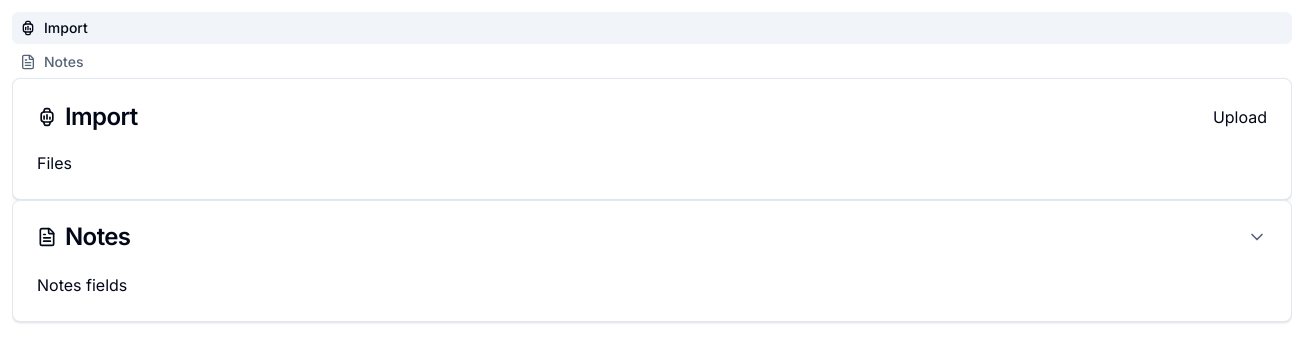
Scenario: the dive form's section index › opens a collapsed section on a jump, scrolls to it and puts focus on it
The width and height of the screenshot is (1304, 340).
Click the 2nd button "Notes". click: (98, 236)
box: x1=37 y1=225 x2=1267 y2=249
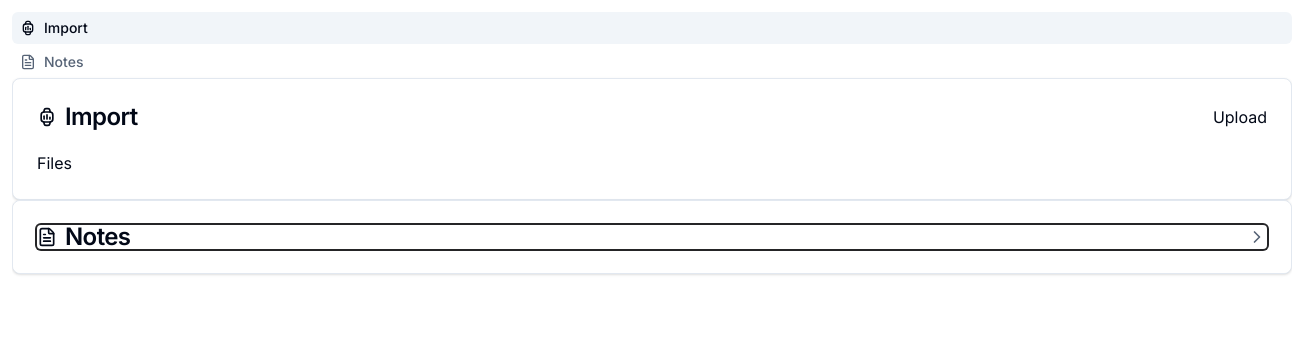
Check: the 2nd button "Notes" is collapsed, box x1=37 y1=225 x2=1267 y2=249
Click the 1st button "Notes". click: (64, 62)
box: x1=12 y1=46 x2=1292 y2=78
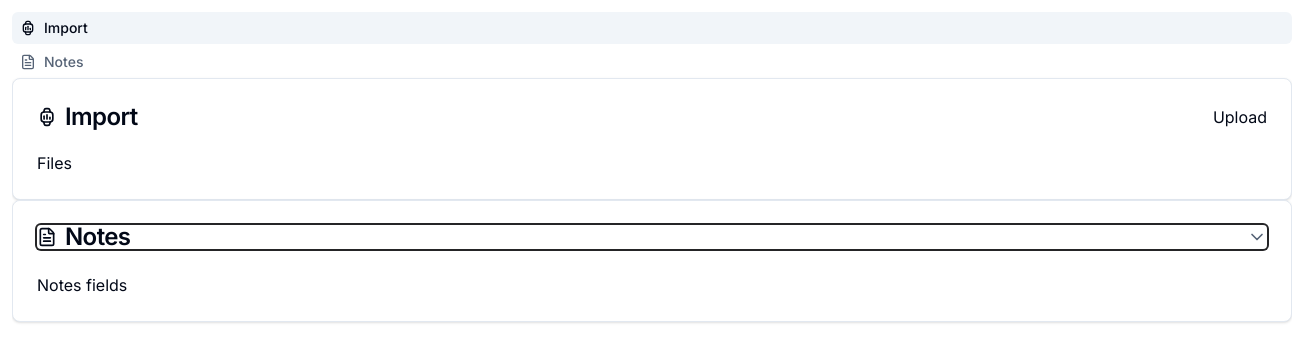
Check: the 2nd button "Notes" is expanded, box x1=37 y1=225 x2=1267 y2=249
Check: the text "Notes fields" is shown, box x1=37 y1=275 x2=127 y2=295
